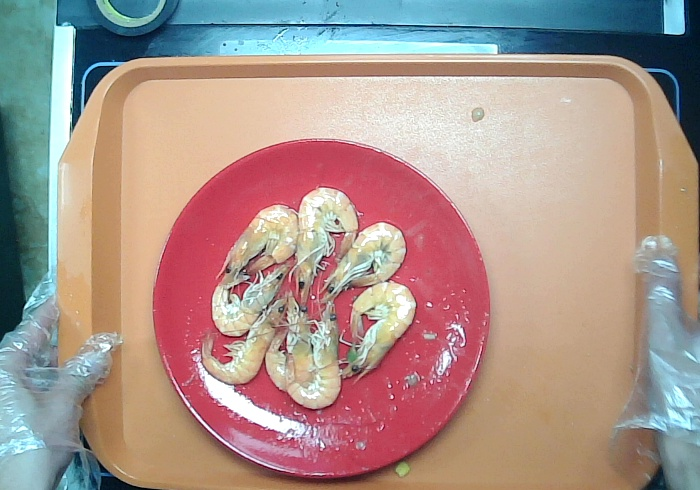HZYJPL-Hong_Se_Yuan_Pan: (152, 138, 493, 482)
